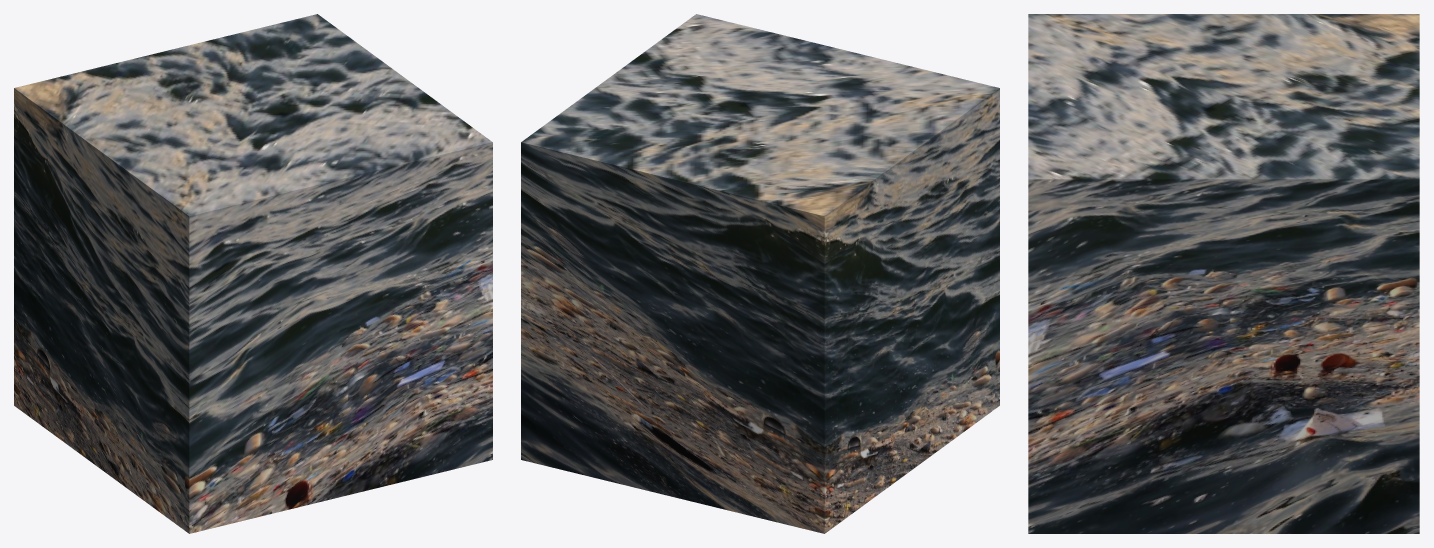
The model's file is caughtup.glb.
3 renders of one model, left to right at view 1: azimuth 30°, elevation 25°; view 2: azimuth 150°, elevation 25°; view 3: azimuth 270°, elevation 25°, orthographic. The views are drawn at different scales.
Visible parts, largest first — view 1: videotarget; view 2: videotarget; view 3: videotarget.
Boxes of the visible parts, x1=… form: videotarget: x1=14, y1=14, x2=492, y2=533; videotarget: x1=521, y1=14, x2=999, y2=533; videotarget: x1=1028, y1=14, x2=1419, y2=533.
Size of the model in its own units: 2 by 2 by 2.
2 materials, 2 textured.
